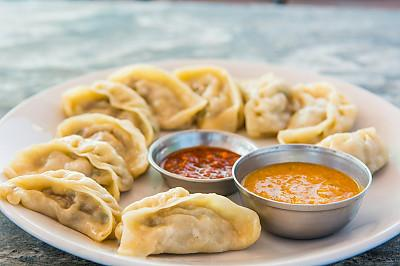momos: (115, 188, 259, 256), (4, 134, 134, 200), (0, 170, 120, 241), (116, 188, 223, 256), (62, 80, 159, 146), (109, 65, 207, 129), (57, 113, 148, 177), (278, 82, 357, 144), (173, 65, 244, 132), (317, 127, 388, 173), (241, 73, 291, 138), (227, 201, 259, 249)
